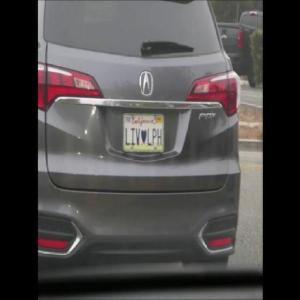Plate: (124, 109, 165, 155)
